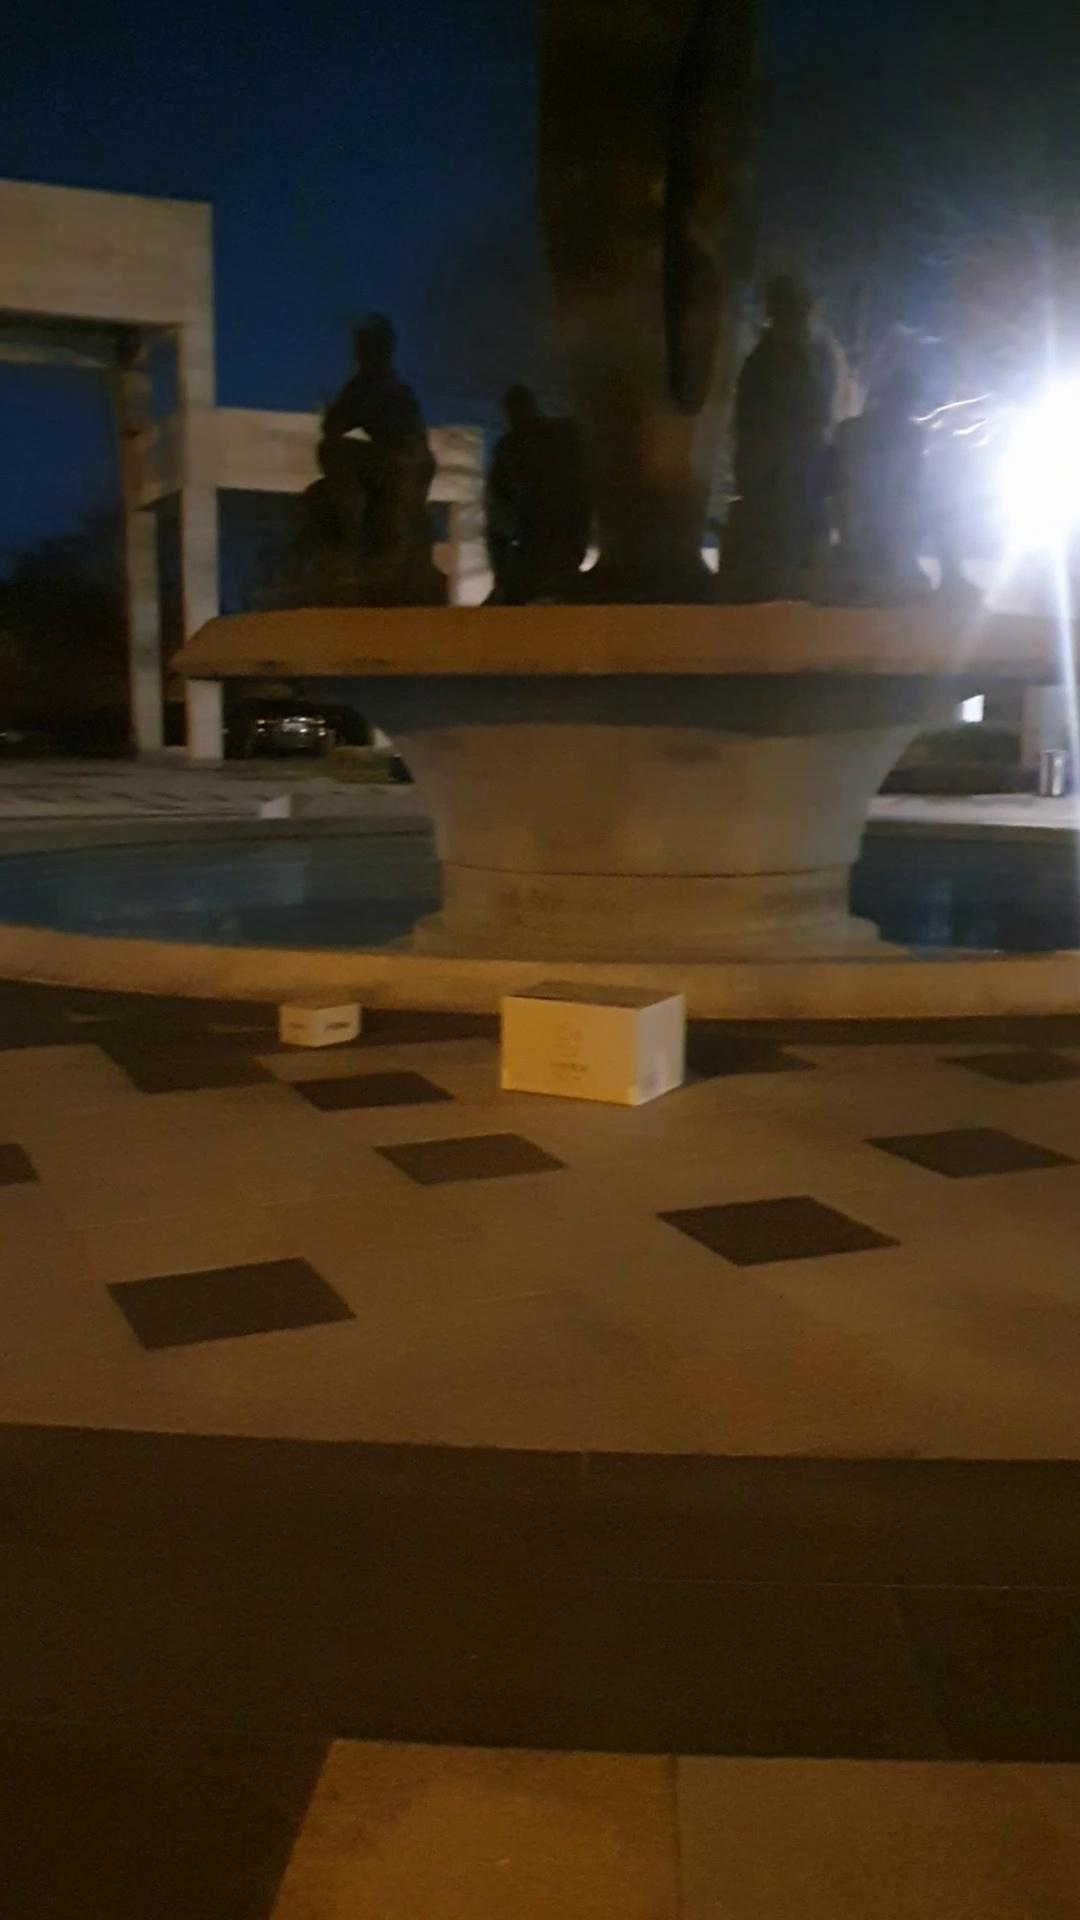Box: (501, 971, 695, 1117), (262, 985, 372, 1052)
